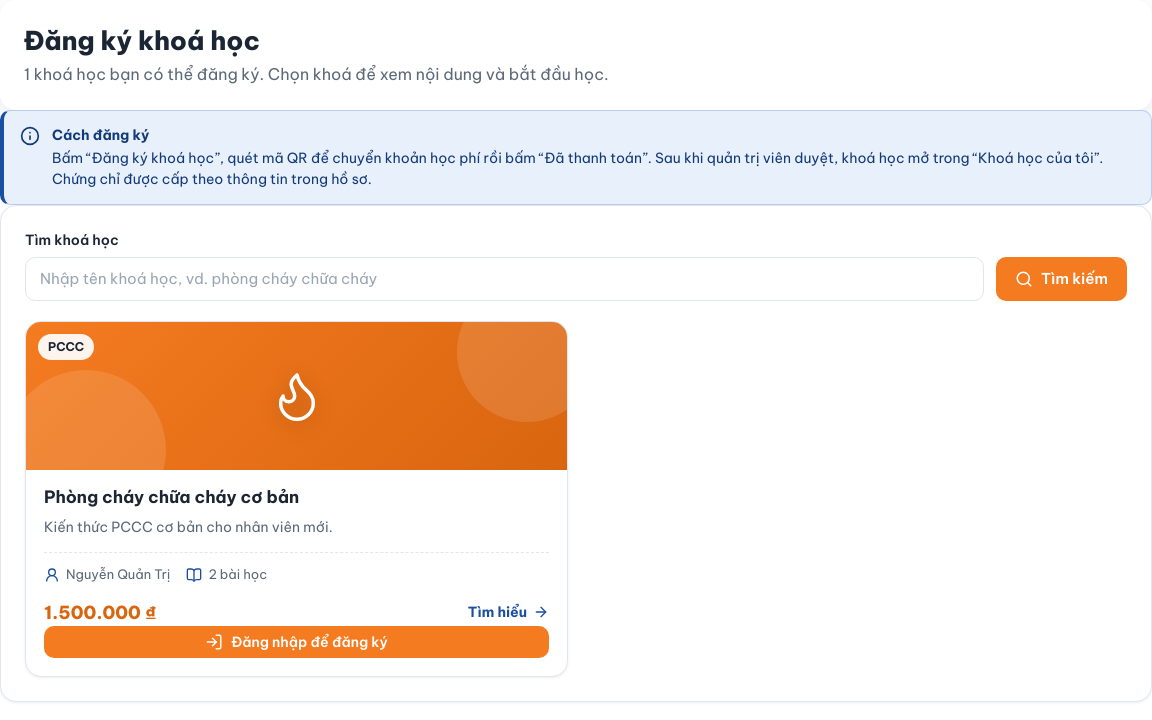
Test case: EnrollPage (góc học viên) › lists published courses and searches by name
Check: the text "1 khoá học bạn có thể đăng ký" is shown, box [24, 64, 608, 84]
Type "pccc" into the search field labelled "Tìm khoá học".
click(504, 279); type("pccc")  # box [25, 257, 984, 301]
Then press Enter
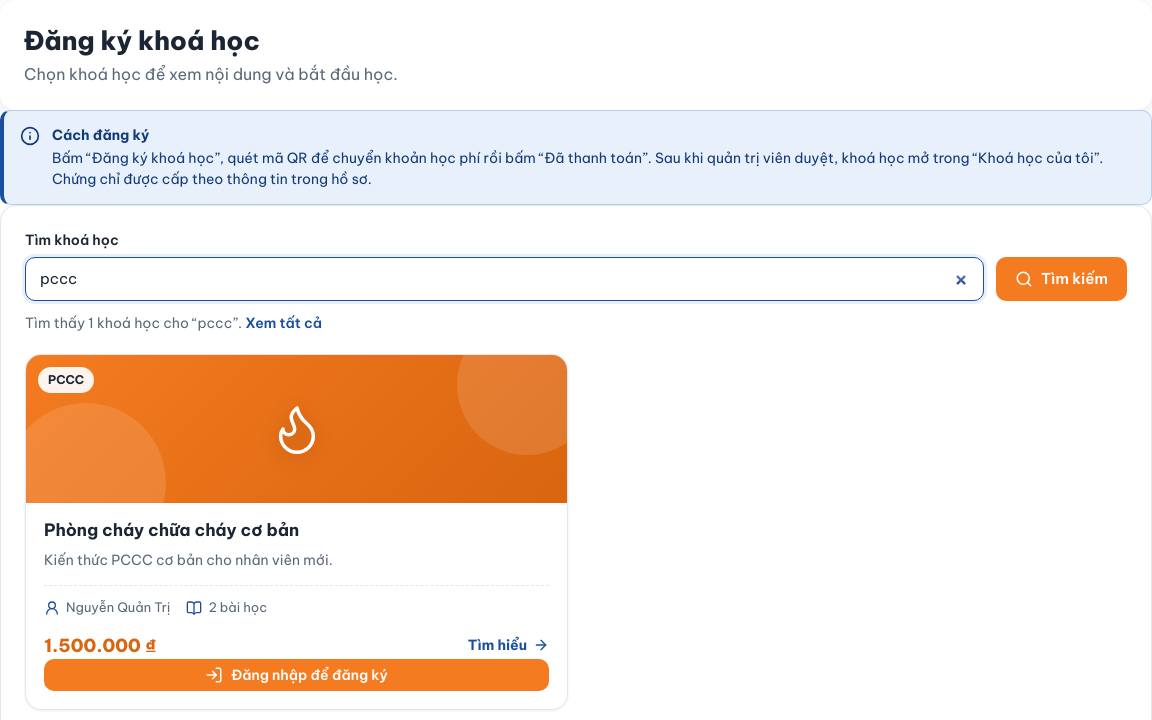
Check: the text "Tìm thấy 1 khoá học cho “pccc”. Xem tất cả" is shown, box [25, 313, 322, 334]
